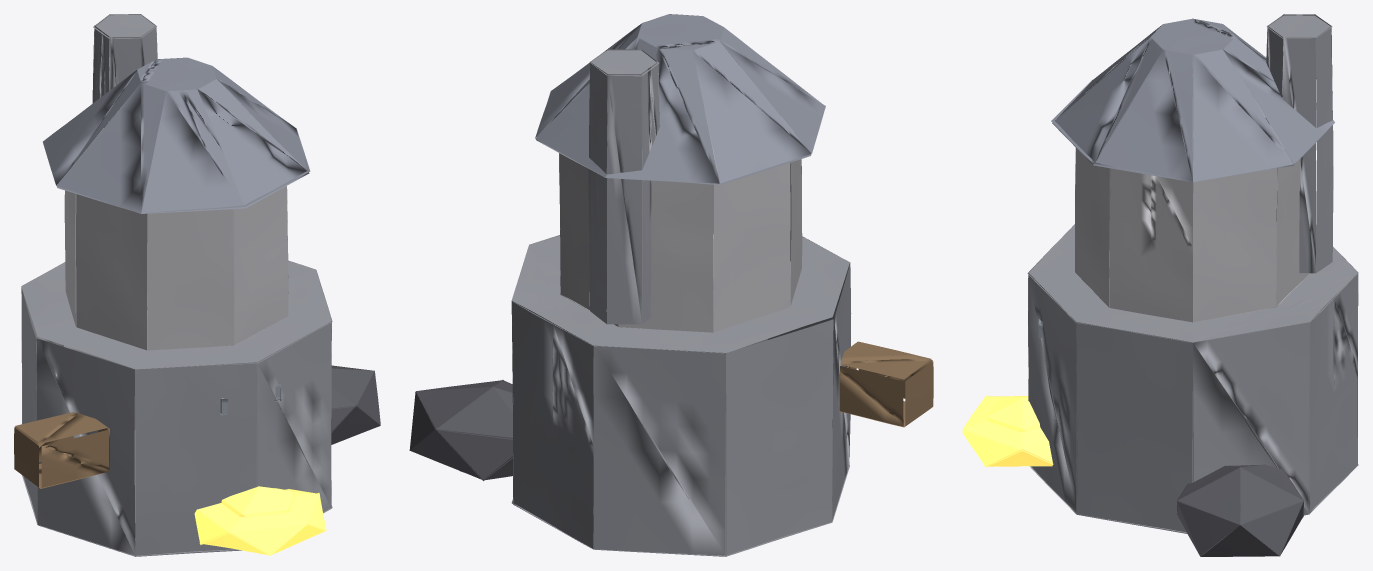
File: smelter.glb
The picture shows the model from 3 angles, left to right: view 1: azimuth 30°, elevation 25°; view 2: azimuth 150°, elevation 25°; view 3: azimuth 270°, elevation 25°; orthographic projection. The views are drawn at different scales.
Visible parts, largest first — view 1: SmelterBase; view 2: SmelterBase; view 3: SmelterBase.
Part boxes in pixels (box(x1,y1,x2,y2)): SmelterBase: box(14, 14, 380, 556); SmelterBase: box(409, 14, 933, 556); SmelterBase: box(962, 14, 1358, 556).
Size of the model in its own units: 2.04 by 2.1 by 1.67.
